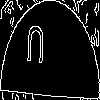U: (25, 25, 46, 74)
